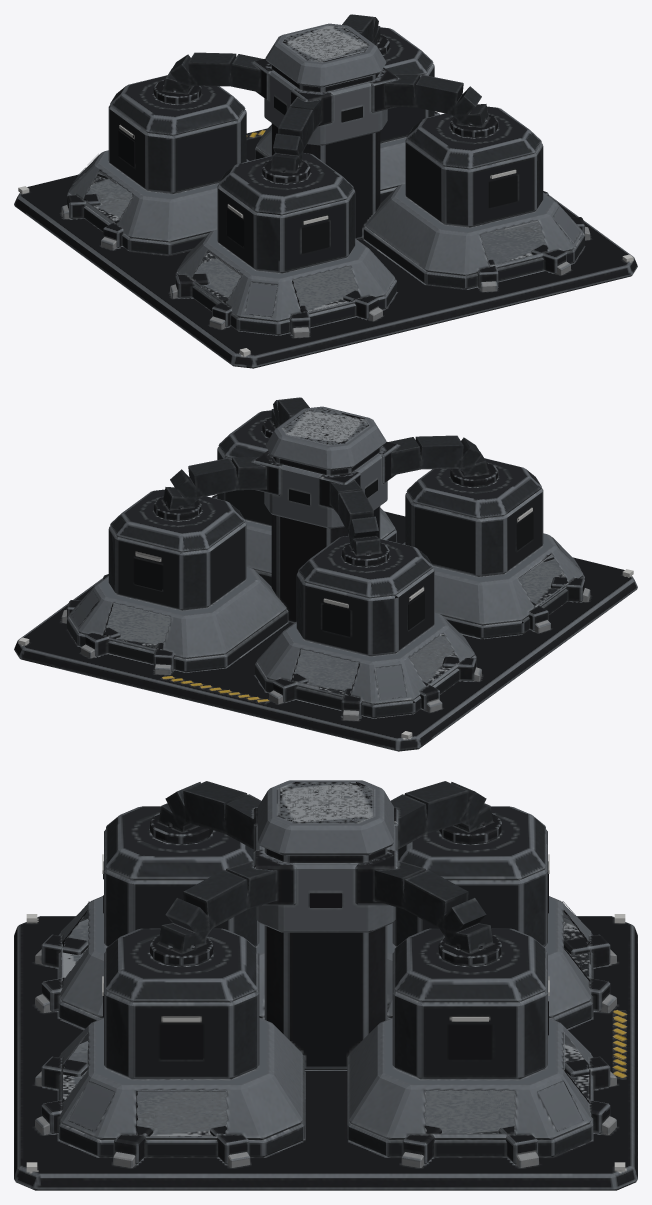
File: chs_advdepot.fbx
3 views of the same model, one above another, from view 1: azimuth 30°, elevation 25°; view 2: azimuth 150°, elevation 25°; view 3: azimuth 270°, elevation 25° (orthographic). The views are drawn at different scales.
Visible parts, largest first — view 1: base_bar, base_glow_running_bar; view 2: base_bar, base_glow_running_bar; view 3: base_bar, base_glow_running_bar.
Boxes of the visible parts, left/top/right/bottom form: base_bar: left=14, top=14, right=637, bottom=368; base_glow_running_bar: left=18, top=125, right=633, bottom=355; base_bar: left=14, top=397, right=637, bottom=751; base_glow_running_bar: left=18, top=508, right=633, bottom=738; base_bar: left=14, top=780, right=637, bottom=1190; base_glow_running_bar: left=26, top=854, right=625, bottom=1171.
Bounding box in the file's own units: 2334 × 1266 × 2334.
Materials: 2 (2 with a texture image).
